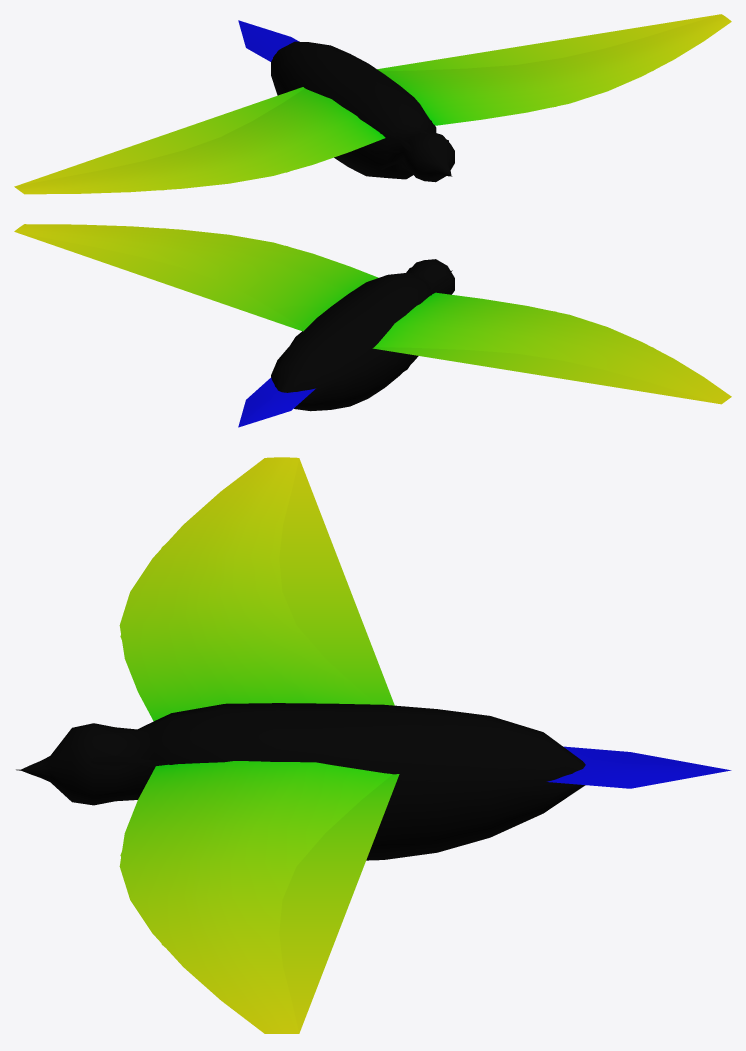
Rendered from sandgrouse.glb.
The picture shows the model from 3 angles, top to bottom: view 1: azimuth 30°, elevation 25°; view 2: azimuth 150°, elevation 25°; view 3: azimuth 270°, elevation 25°; orthographic projection. The views are drawn at different scales.
Parts seen in each view (by area): view 1: fly0, fly2, fly1; view 2: fly0, fly2, fly1; view 3: fly0, fly2, fly1.
Boxes of the visible parts, <box> form: fly0: <box>14,14,731,194</box>; fly2: <box>15,14,719,186</box>; fly1: <box>16,22,676,191</box>; fly0: <box>14,224,731,427</box>; fly2: <box>15,232,720,404</box>; fly1: <box>57,228,729,426</box>; fly0: <box>21,457,731,1033</box>; fly2: <box>16,458,561,1033</box>; fly1: <box>20,470,729,1033</box>.
Bounding box in the file's own units: 0.62 × 0.072 × 0.3266.
